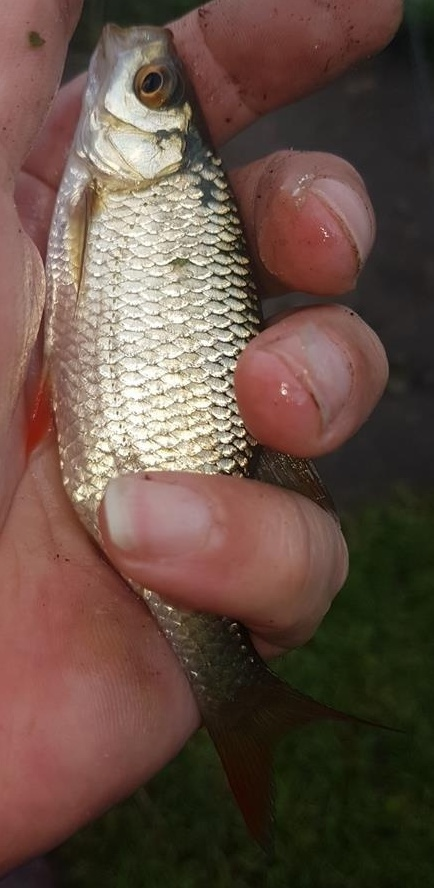Scardinius erythrophthalmus: (20, 20, 414, 868)
